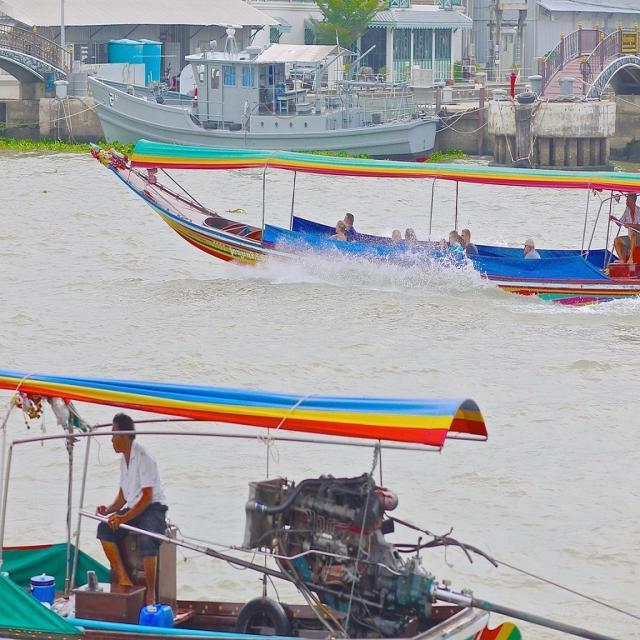Hyacinth: (2, 142, 106, 158)
boat: (0, 387, 513, 640), (79, 131, 634, 307), (84, 70, 436, 158)
